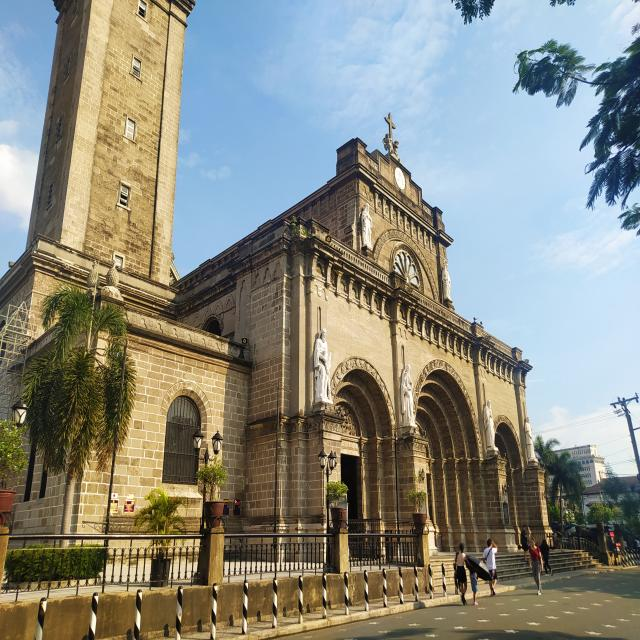Manila Cathedral: (0, 0, 606, 640)
